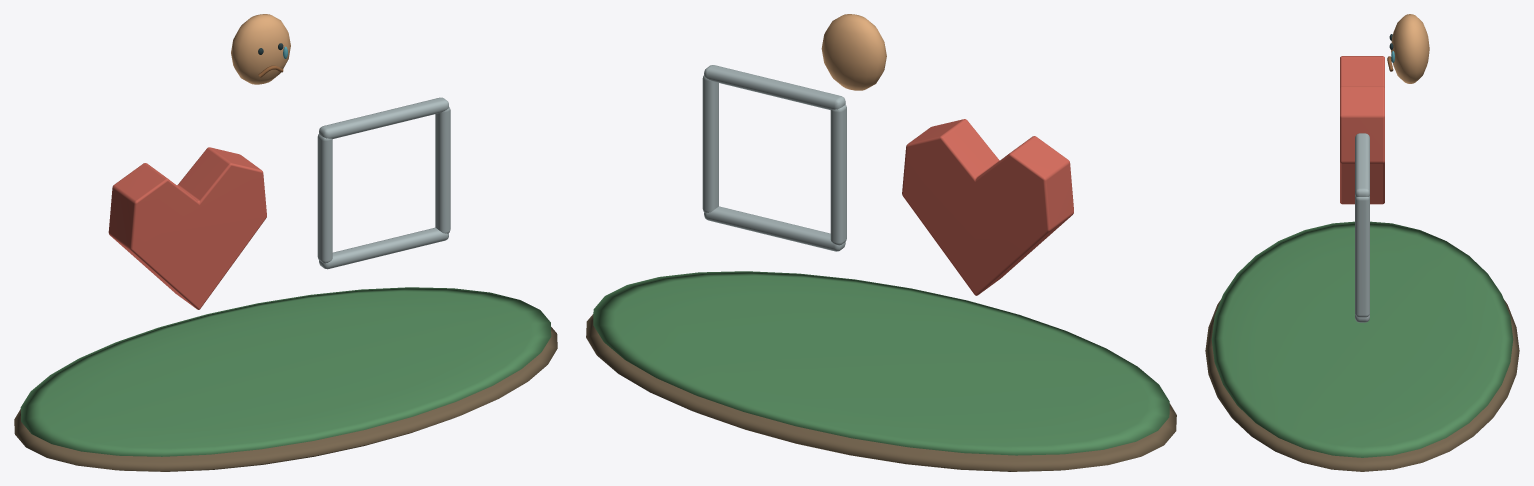
Rendered from complete-third-hugging-shortfall.glb.
3 views of the same model, side by side, from view 1: azimuth 30°, elevation 25°; view 2: azimuth 150°, elevation 25°; view 3: azimuth 270°, elevation 25° (orthographic). The views are drawn at different scales.
Parts seen in each view (by area): view 1: complete-third-hugging-shortfall_surface_01, complete-third-hugging-shortfall_surface_02, complete-third-hugging-shortfall_surface_00, complete-third-hugging-shortfall_surface_03, complete-third-hugging-shortfall_surface_04; view 2: complete-third-hugging-shortfall_surface_01, complete-third-hugging-shortfall_surface_02, complete-third-hugging-shortfall_surface_00, complete-third-hugging-shortfall_surface_03, complete-third-hugging-shortfall_surface_04; view 3: complete-third-hugging-shortfall_surface_01, complete-third-hugging-shortfall_surface_00, complete-third-hugging-shortfall_surface_02, complete-third-hugging-shortfall_surface_03, complete-third-hugging-shortfall_surface_04.
Part boxes in pixels (x1,y1,x2,y2): complete-third-hugging-shortfall_surface_01: [20, 287, 551, 456]; complete-third-hugging-shortfall_surface_02: [108, 147, 266, 309]; complete-third-hugging-shortfall_surface_00: [14, 327, 557, 471]; complete-third-hugging-shortfall_surface_03: [317, 97, 450, 269]; complete-third-hugging-shortfall_surface_04: [231, 14, 290, 84]; complete-third-hugging-shortfall_surface_01: [593, 271, 1169, 455]; complete-third-hugging-shortfall_surface_02: [902, 119, 1073, 295]; complete-third-hugging-shortfall_surface_00: [586, 314, 1176, 471]; complete-third-hugging-shortfall_surface_03: [702, 65, 846, 251]; complete-third-hugging-shortfall_surface_04: [821, 14, 886, 90]; complete-third-hugging-shortfall_surface_01: [1211, 221, 1513, 457]; complete-third-hugging-shortfall_surface_00: [1205, 300, 1519, 471]; complete-third-hugging-shortfall_surface_02: [1340, 56, 1384, 204]; complete-third-hugging-shortfall_surface_03: [1355, 133, 1369, 322]; complete-third-hugging-shortfall_surface_04: [1391, 14, 1429, 83].
Bounding box in the file's own units: 4.56 × 3.07 × 2.5.
